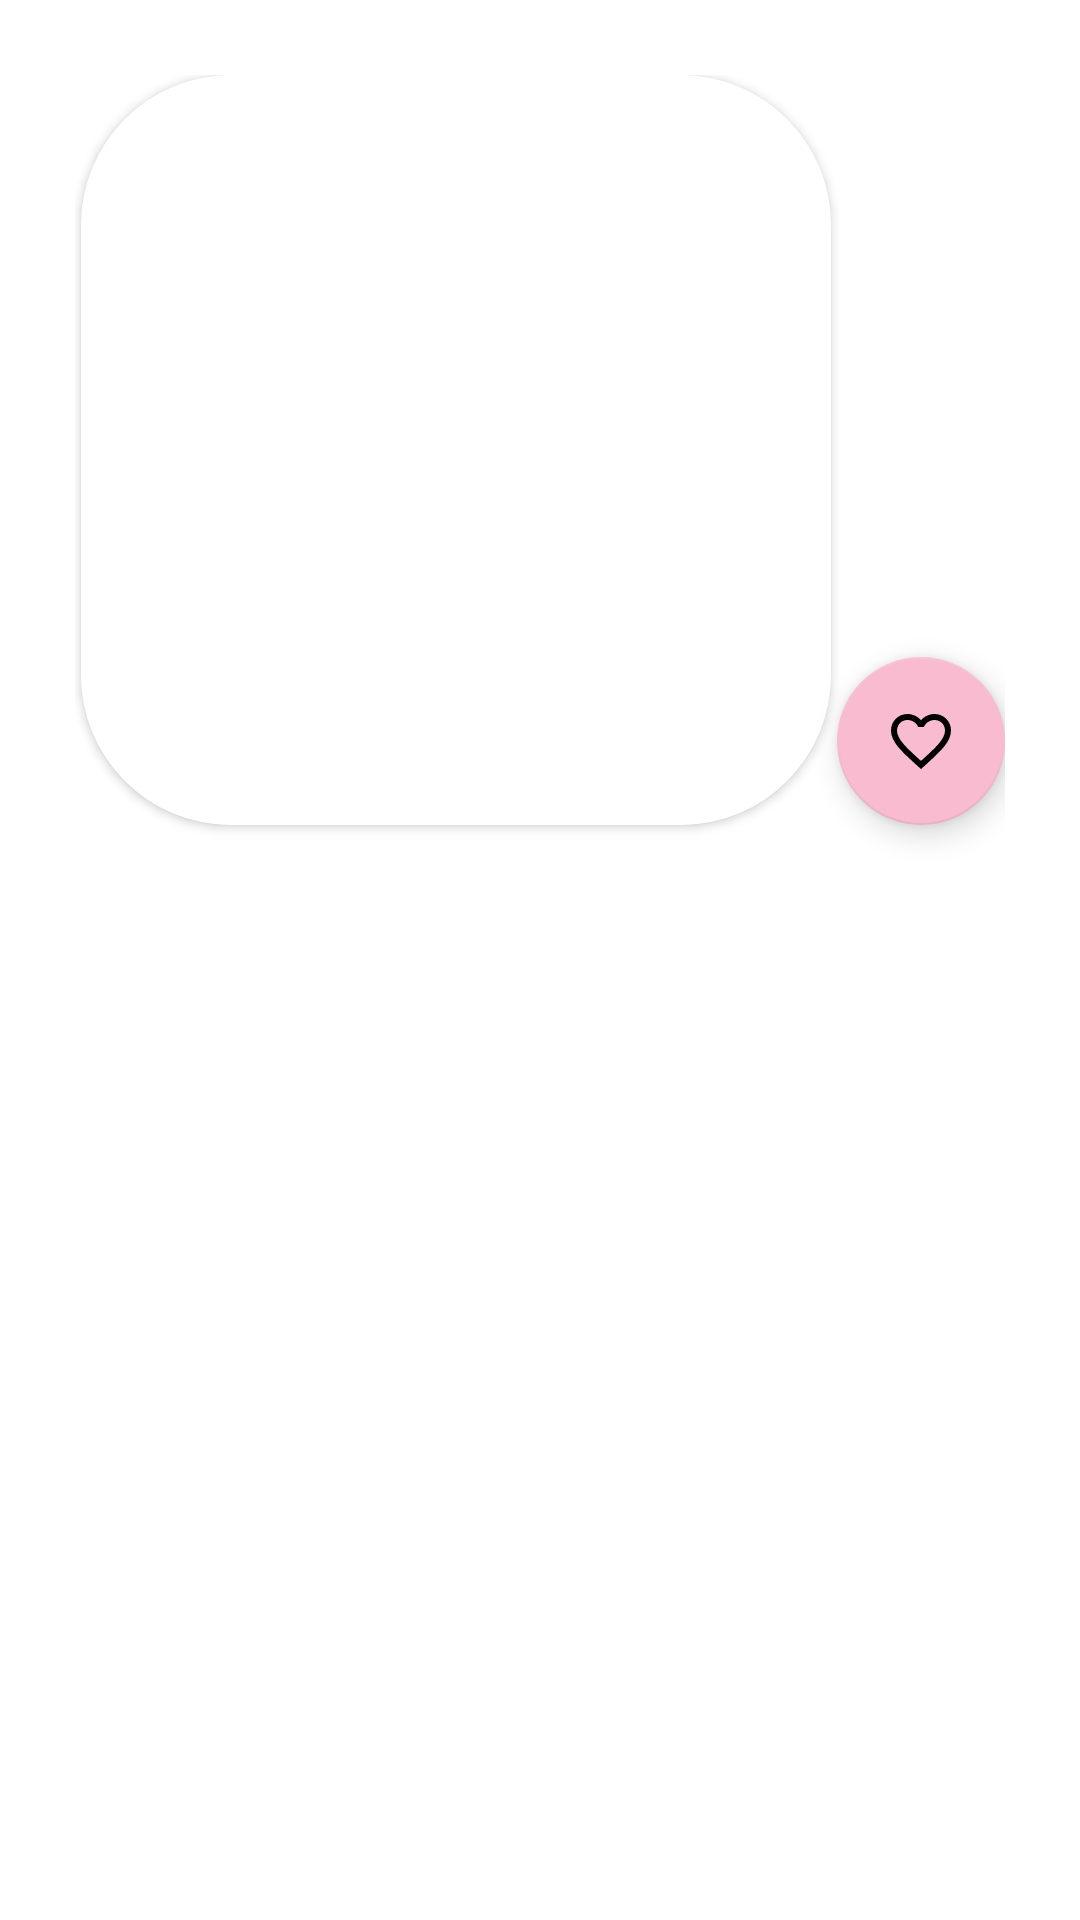

Where icons sit on this 1080w x 1920h app screen, as (x1,y1,x2,y2):
favorite border: (837,657,1005,825)
